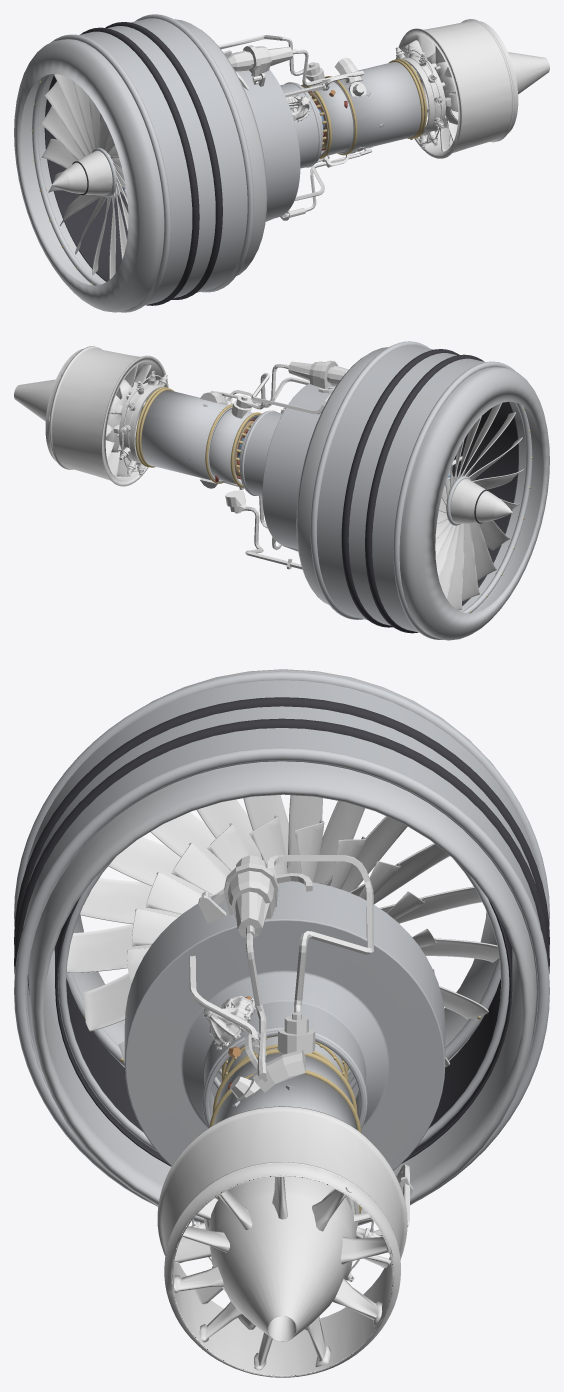
File: turbine.glb
3 views of the same model, one above another, from view 1: azimuth 30°, elevation 25°; view 2: azimuth 150°, elevation 25°; view 3: azimuth 270°, elevation 25° (orthographic). The views are drawn at different scales.
Visible parts, largest first — view 1: pieza_fan_case, TRB_FanCaseOuter.002, turbine engine 3d model.001, TRB_CoreCowl.002, TRB_TurbCase.002, TRB_FanCaseLiner.002, TRB_Kevlar1.002, TRB_Kevlar2.002, TRB_FanFlgF.002, jet engine 3d model_LIMPIO_p30.001, TRB_FanFlgR.002, metal ring with fittings 3d model (+14 smaller); view 2: pieza_fan_case, TRB_FanCaseOuter.002, turbine engine 3d model.001, TRB_CoreCowl.002, TRB_TurbCase.002, TRB_FanCaseLiner.002, TRB_Kevlar1.002, TRB_Kevlar2.002, TRB_FanFlgF.002, TRB_FanFlgR.002, jet engine 3d model_LIMPIO_p30.001, conical drill bit 3d model (+12 smaller); view 3: TRB_CoreCowl.002, turbine engine 3d model.001, pieza_fan_case, TRB_FanCaseOuter.002, TRB_FanFlgR.002, turbine rotor 3d model.002, TRB_FanCaseLiner.002, jet engine 3d model_LIMPIO_p30.001, TRB_Kevlar2.002, TRB_Kevlar1.002, TRB_FanFlgF.002, TRB_OGVout.002 (+21 smaller).
Boxes of the visible parts, x1=… form: pieza_fan_case: x1=14, y1=19, x2=267, y2=312; TRB_FanCaseOuter.002: x1=79, y1=18, x2=247, y2=305; turbine engine 3d model.001: x1=396, y1=19, x2=549, y2=158; TRB_CoreCowl.002: x1=226, y1=52, x2=322, y2=220; TRB_TurbCase.002: x1=334, y1=62, x2=424, y2=153; TRB_FanCaseLiner.002: x1=44, y1=75, x2=128, y2=281; TRB_Kevlar1.002: x1=80, y1=27, x2=199, y2=305; TRB_Kevlar2.002: x1=105, y1=22, x2=222, y2=299; TRB_FanFlgF.002: x1=51, y1=34, x2=170, y2=312; jet engine 3d model_LIMPIO_p30.001: x1=218, y1=35, x2=324, y2=86; TRB_FanFlgR.002: x1=135, y1=14, x2=253, y2=292; metal ring with fittings 3d model: x1=395, y1=43, x2=445, y2=148; pieza_fan_case: x1=296, y1=347, x2=549, y2=640; TRB_FanCaseOuter.002: x1=316, y1=345, x2=485, y2=632; turbine engine 3d model.001: x1=14, y1=346, x2=168, y2=486; TRB_CoreCowl.002: x1=240, y1=383, x2=335, y2=549; TRB_TurbCase.002: x1=138, y1=390, x2=232, y2=482; TRB_FanCaseLiner.002: x1=452, y1=402, x2=518, y2=605; TRB_Kevlar1.002: x1=365, y1=354, x2=484, y2=633; TRB_Kevlar2.002: x1=341, y1=349, x2=459, y2=627; TRB_FanFlgF.002: x1=393, y1=361, x2=515, y2=639; TRB_FanFlgR.002: x1=310, y1=341, x2=429, y2=619; jet engine 3d model_LIMPIO_p30.001: x1=231, y1=360, x2=348, y2=418; conical drill bit 3d model: x1=446, y1=479, x2=512, y2=523; TRB_CoreCowl.002: x1=124, y1=881, x2=445, y2=1170; turbine engine 3d model.001: x1=157, y1=1106, x2=407, y2=1377; pieza_fan_case: x1=28, y1=669, x2=536, y2=1225; TRB_FanCaseOuter.002: x1=23, y1=680, x2=540, y2=1090; TRB_FanFlgR.002: x1=14, y1=747, x2=549, y2=1206; turbine rotor 3d model.002: x1=127, y1=815, x2=436, y2=984; TRB_FanCaseLiner.002: x1=55, y1=897, x2=512, y2=1166; jet engine 3d model_LIMPIO_p30.001: x1=198, y1=855, x2=373, y2=1054; TRB_Kevlar2.002: x1=14, y1=718, x2=549, y2=994; TRB_Kevlar1.002: x1=14, y1=697, x2=549, y2=950; TRB_FanFlgF.002: x1=14, y1=671, x2=549, y2=926; TRB_OGVout.002: x1=58, y1=857, x2=509, y2=1151.
Size of the model in its own units: 8.53 by 4.25 by 4.25.
